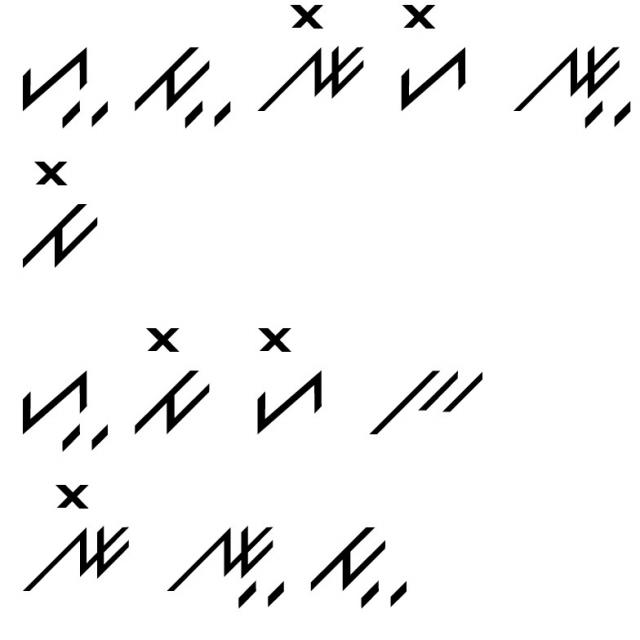hah: (12, 353, 112, 453), (10, 41, 113, 130)
ho: (244, 310, 329, 442), (393, 2, 480, 117)
mbah: (132, 34, 234, 134), (309, 514, 412, 612)
mbo: (10, 154, 104, 278), (122, 316, 212, 439)
ndah: (164, 514, 290, 616), (504, 32, 632, 130)
ndo: (252, 4, 368, 131), (15, 478, 136, 598)
